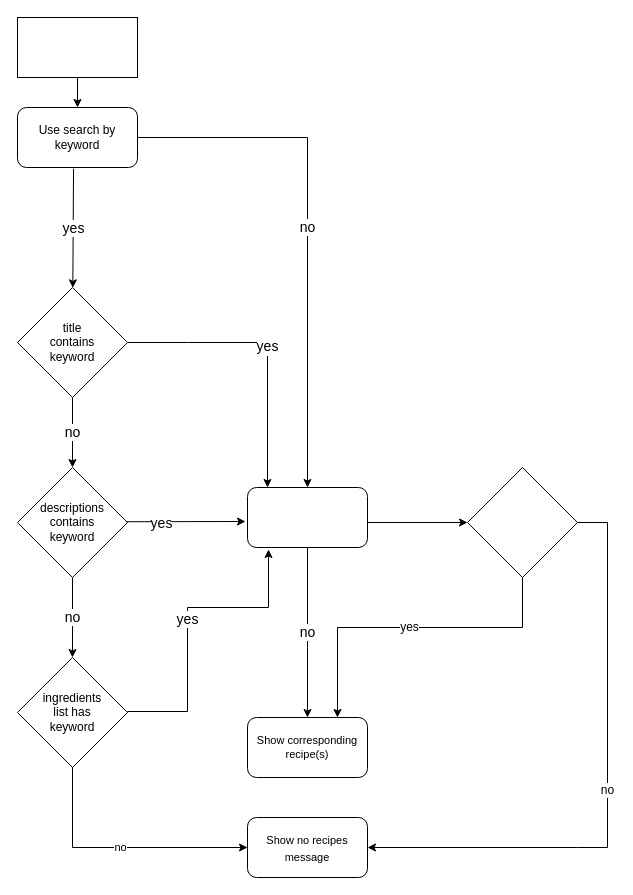
Image size: 633x895. Some labels were removed from this diagram. The centre of each missing label's shape, as x and y in pixels:
Has one or many tags in recipe(s): point 522,522
Load all recipes: point 77,47
Use advanced search: point 307,517
